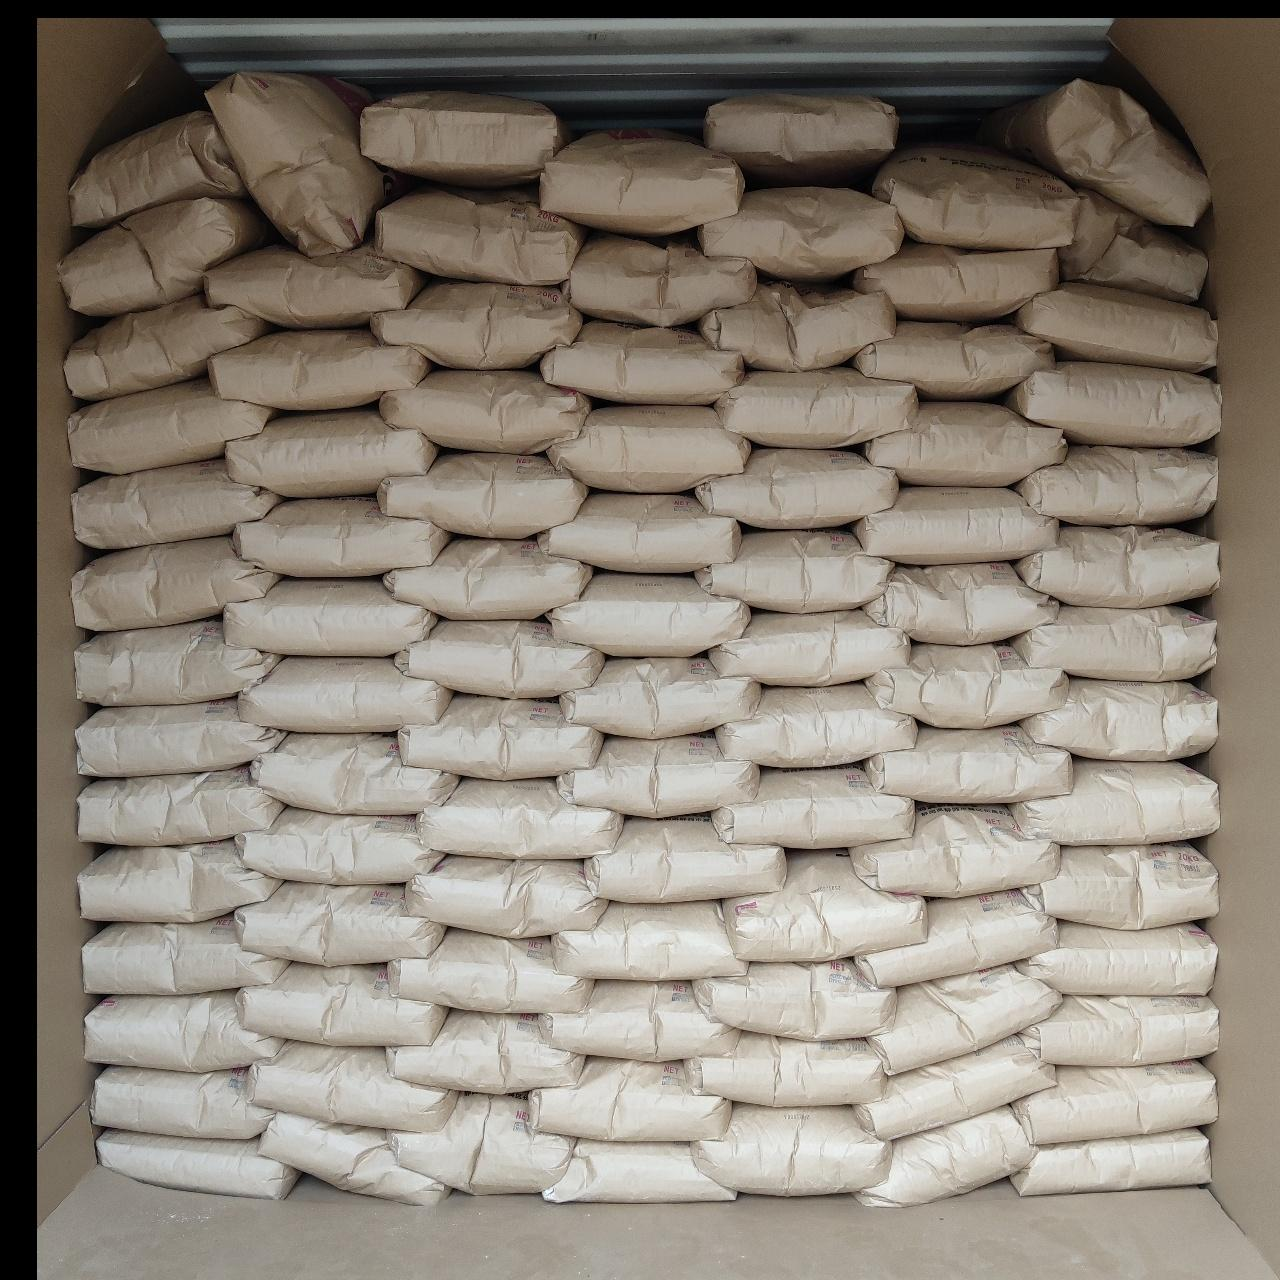sack: (978, 80, 1208, 222), (207, 72, 386, 254), (60, 198, 272, 316), (870, 144, 1078, 246), (66, 294, 270, 399), (722, 852, 922, 958), (542, 130, 742, 234), (70, 110, 246, 226), (856, 1036, 1054, 1138), (870, 966, 1060, 1070), (362, 91, 568, 186), (374, 190, 583, 284), (70, 377, 274, 470), (74, 538, 278, 629), (856, 890, 1054, 983), (697, 188, 903, 278), (74, 458, 278, 549), (1005, 362, 1220, 445), (852, 806, 1056, 894), (372, 280, 580, 366), (229, 408, 436, 493), (246, 1042, 454, 1128), (1014, 284, 1214, 372), (206, 246, 424, 326), (694, 1104, 886, 1194), (380, 370, 590, 452), (1014, 760, 1218, 844), (856, 1108, 1030, 1206), (392, 1096, 574, 1190), (706, 91, 896, 182), (564, 234, 756, 324), (377, 452, 586, 535), (549, 406, 750, 490), (529, 1057, 730, 1141), (260, 1114, 445, 1204), (236, 884, 444, 964), (1058, 190, 1206, 302), (549, 572, 750, 654), (76, 620, 278, 702), (388, 930, 590, 1012), (210, 331, 430, 406), (586, 816, 782, 900), (240, 964, 444, 1044), (700, 284, 894, 368), (252, 734, 456, 813), (386, 538, 590, 618), (716, 685, 915, 765), (234, 498, 445, 574), (1016, 526, 1218, 606), (869, 644, 1064, 726), (714, 765, 912, 846), (542, 322, 742, 402), (400, 696, 600, 776), (388, 1010, 583, 1092), (540, 492, 740, 572), (855, 241, 1056, 320), (79, 765, 280, 844), (84, 915, 286, 994), (76, 697, 284, 774), (864, 404, 1062, 484), (1016, 1062, 1214, 1142), (418, 778, 622, 856), (694, 960, 894, 1039), (1024, 844, 1216, 926), (1016, 445, 1216, 524), (696, 530, 892, 610), (408, 856, 606, 934), (866, 726, 1070, 802), (558, 736, 758, 813), (226, 580, 436, 654), (240, 658, 450, 731), (716, 368, 915, 445), (80, 840, 278, 918), (1020, 680, 1214, 758), (86, 992, 280, 1070), (561, 656, 758, 734), (396, 620, 602, 694), (696, 450, 896, 526), (538, 982, 734, 1060), (866, 564, 1056, 644), (855, 322, 1051, 399), (236, 808, 438, 881), (855, 488, 1056, 561), (710, 610, 908, 685), (682, 1032, 886, 1104), (1012, 606, 1214, 678), (554, 903, 744, 978), (1017, 922, 1214, 992), (1017, 996, 1216, 1062), (98, 1130, 297, 1196), (1012, 1130, 1208, 1194), (91, 1068, 270, 1133), (544, 1142, 734, 1200)
